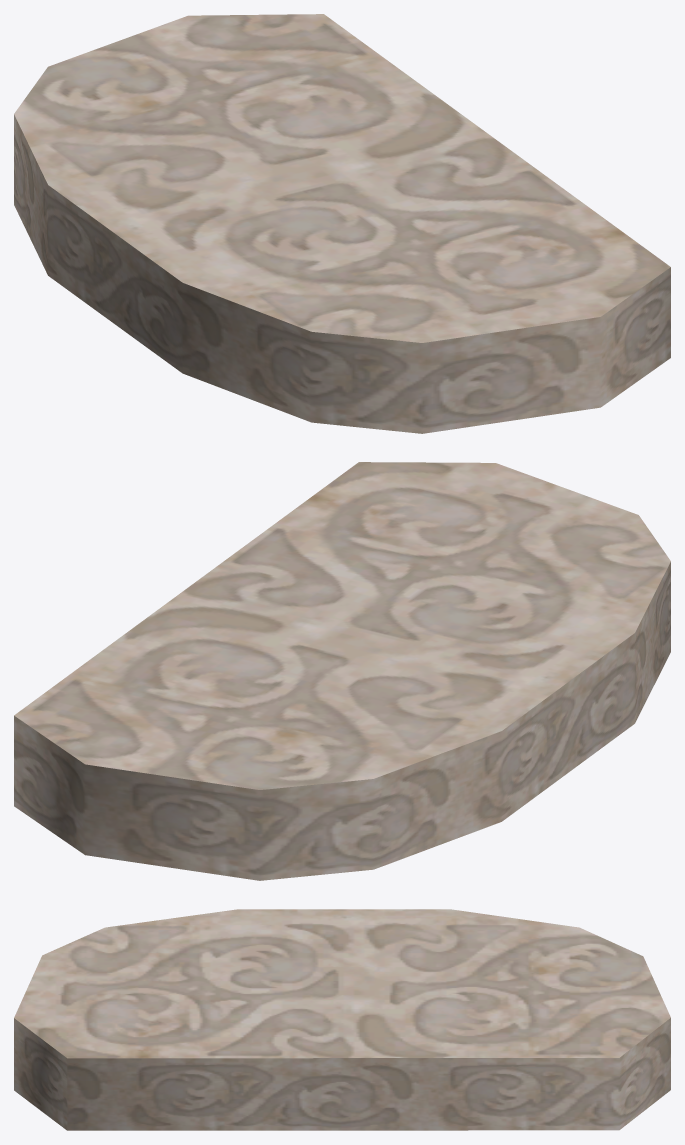
File: EKH_GROTTO_PS_GR_OBJECT06.fbx
3 renders of one model, top to bottom at view 1: azimuth 30°, elevation 25°; view 2: azimuth 150°, elevation 25°; view 3: azimuth 270°, elevation 25°, orthographic. The views are drawn at different scales.
Visible parts, largest first — view 1: EKH_GROTTO_PS_GR_OBJECT06; view 2: EKH_GROTTO_PS_GR_OBJECT06; view 3: EKH_GROTTO_PS_GR_OBJECT06.
Part boxes in pixels (box(x1,y1,x2,y2)): EKH_GROTTO_PS_GR_OBJECT06: box(14, 14, 670, 433); EKH_GROTTO_PS_GR_OBJECT06: box(14, 462, 670, 880); EKH_GROTTO_PS_GR_OBJECT06: box(14, 909, 670, 1130).
Size of the model in its own units: 26487 by 6000 by 49316.
Materials: 2 (2 with a texture image).
